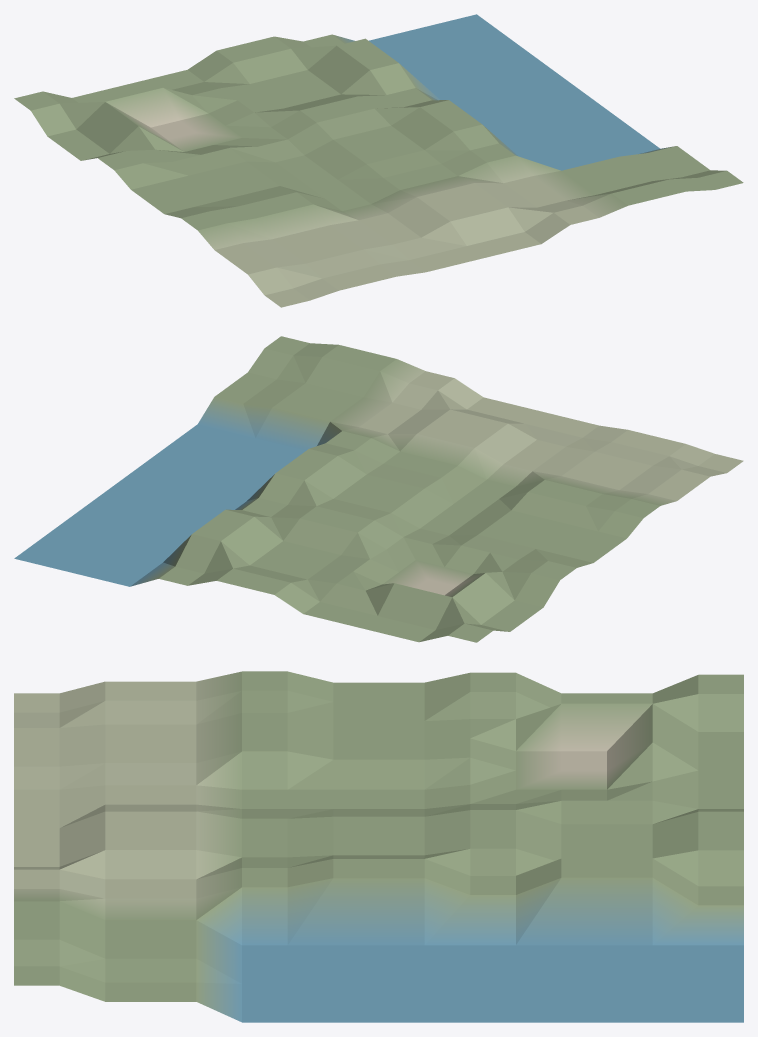
The picture shows the model from 3 angles, top to bottom: view 1: azimuth 30°, elevation 25°; view 2: azimuth 150°, elevation 25°; view 3: azimuth 270°, elevation 25°; orthographic projection. The views are drawn at different scales.
Size of the model in its own units: 32 by 2.36 by 32.
